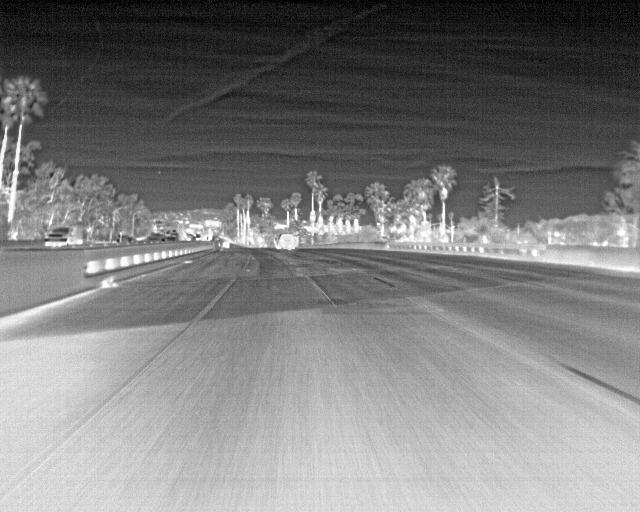car: (46, 228, 65, 245), (277, 234, 294, 250)
